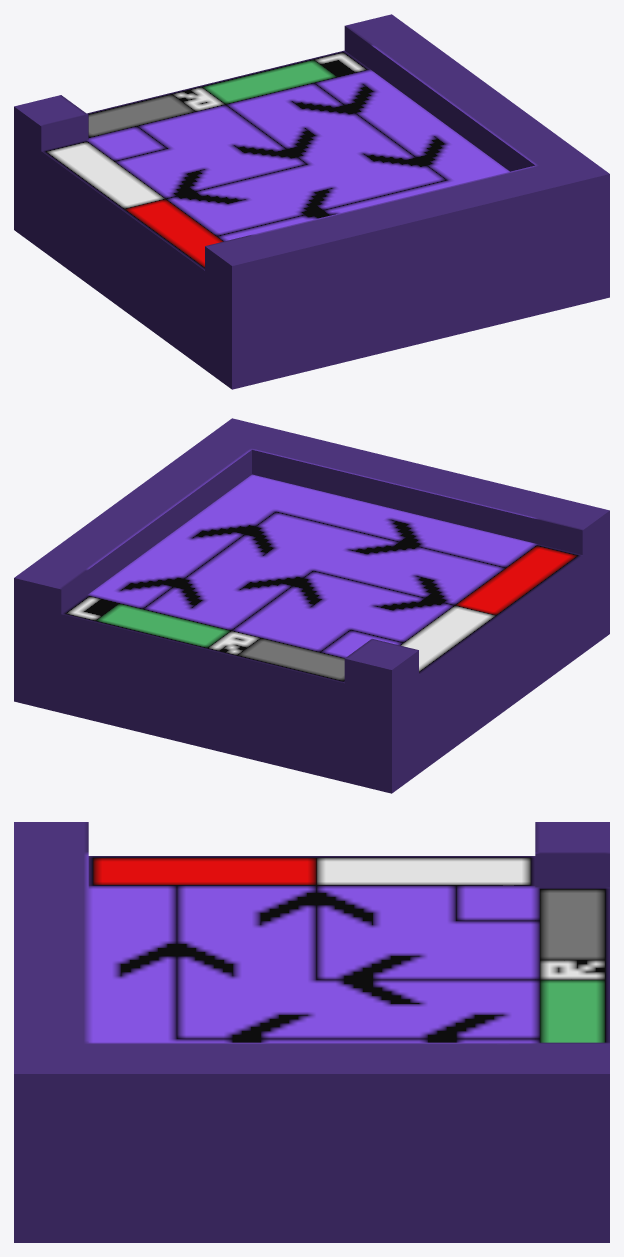
File: right.dae
The picture shows the model from 3 angles, top to bottom: view 1: azimuth 30°, elevation 25°; view 2: azimuth 150°, elevation 25°; view 3: azimuth 270°, elevation 25°; orthographic projection. The views are drawn at different scales.
Visible parts, largest first — view 1: Right; view 2: Right; view 3: Right.
Boxes of the visible parts, x1,y1,x2,y2 form: Right: (14, 14, 609, 389); Right: (14, 418, 609, 793); Right: (14, 822, 609, 1242).
Size of the model in its own units: 4 by 4 by 1.25.
Materials: 1 (1 with a texture image).
